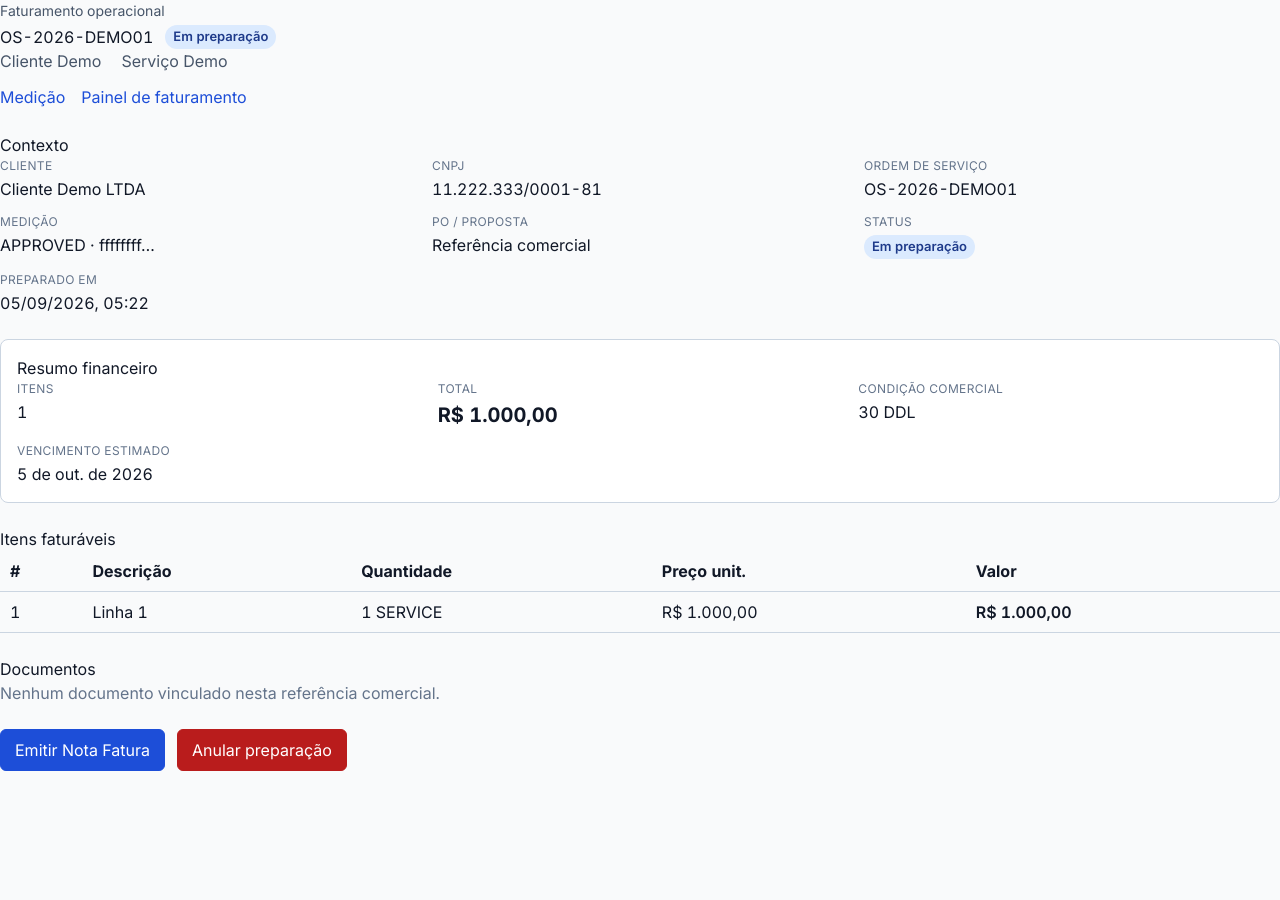
ServiceOrderBillingPage › shows version conflict banner on stale void
Click the button "Anular preparação".
click(262, 750)  # box [177,728,347,770]
(page scrolled)
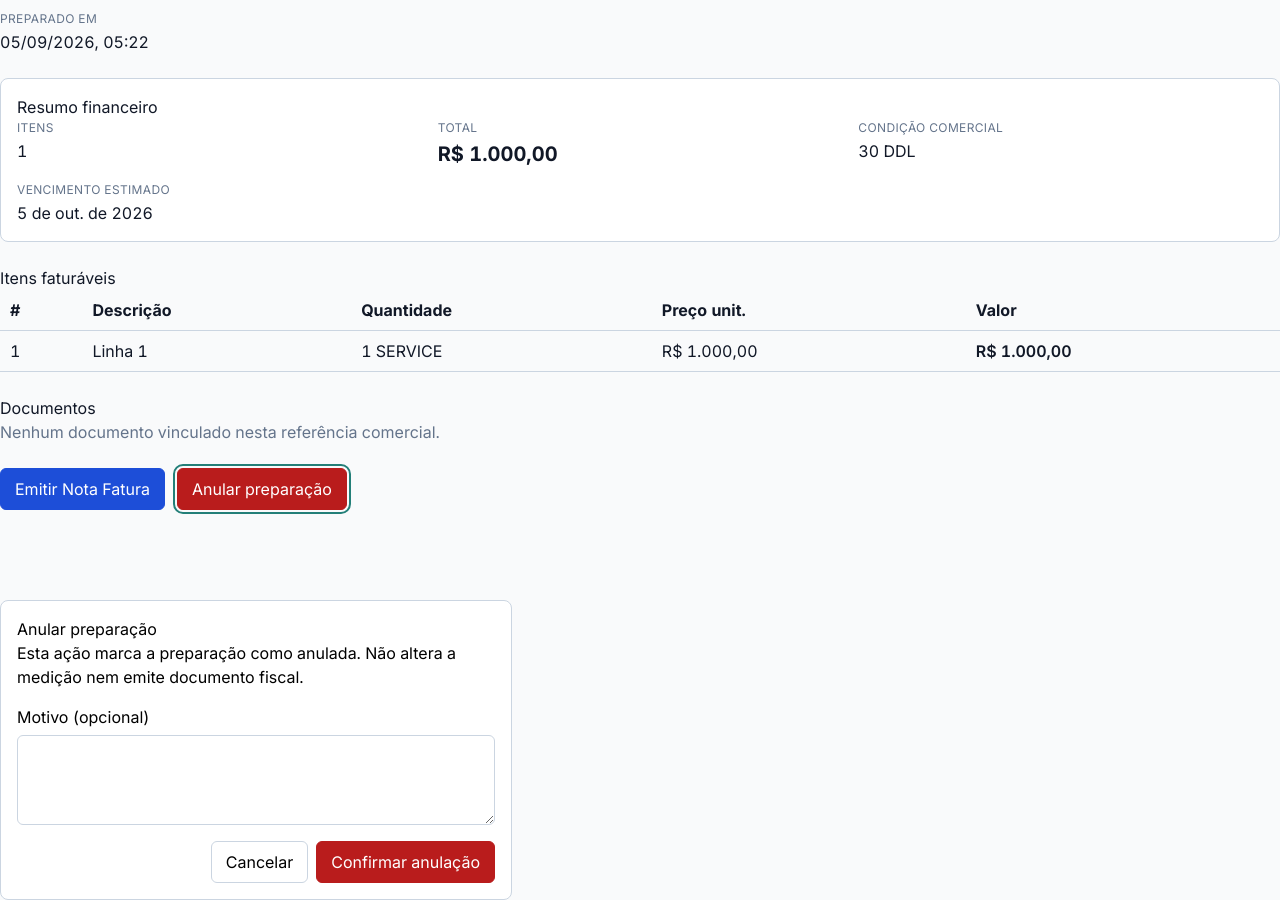
Click the button "Confirmar anulação".
click(406, 862)  # box [316,840,495,882]
(page scrolled)
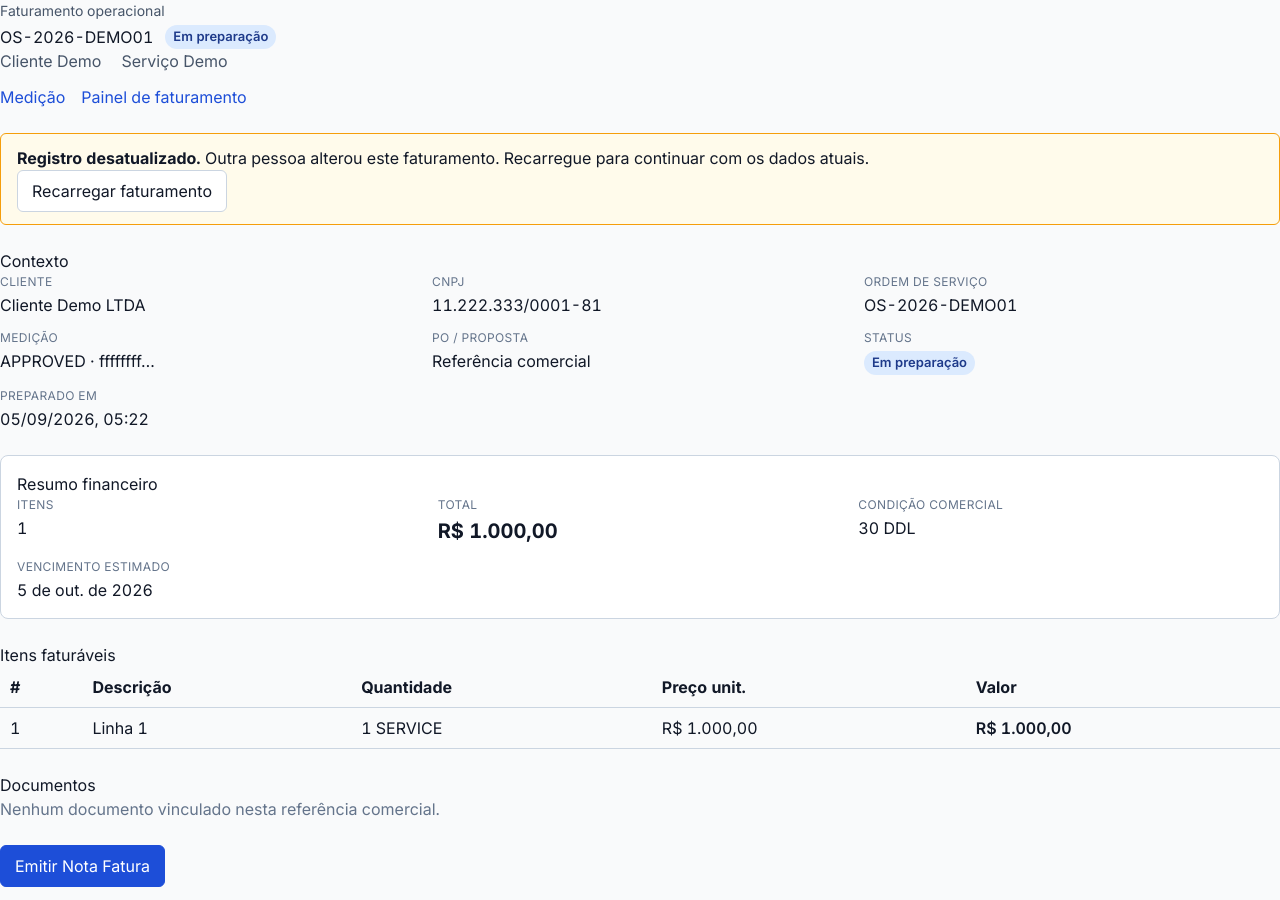
Result: the text "Registro desatualizado." is shown at [17,148,201,168]
